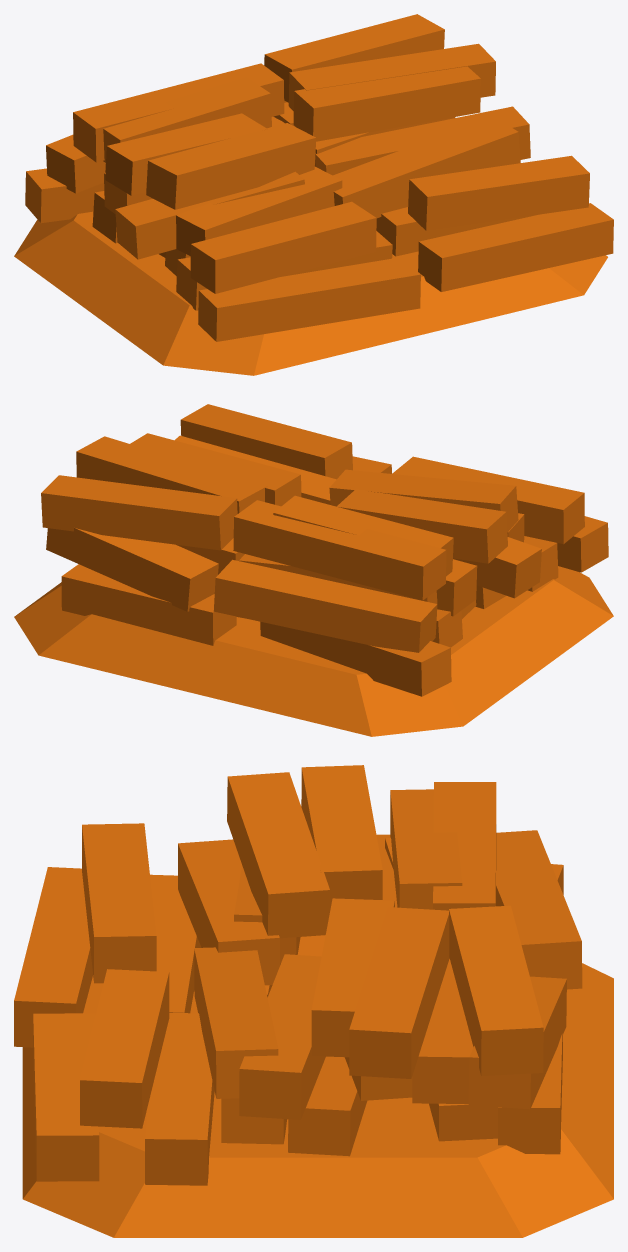
Rendered from SM_Cook_Topping_Carrot_01.fbx.
The picture shows the model from 3 angles, top to bottom: view 1: azimuth 30°, elevation 25°; view 2: azimuth 150°, elevation 25°; view 3: azimuth 270°, elevation 25°; orthographic projection. The views are drawn at different scales.
Visible parts, largest first — view 1: SM_Cook_Topping_Carrot_01; view 2: SM_Cook_Topping_Carrot_01; view 3: SM_Cook_Topping_Carrot_01.
Part boxes in pixels (x1,y1,x2,y2): SM_Cook_Topping_Carrot_01: (14, 14, 613, 375); SM_Cook_Topping_Carrot_01: (14, 404, 613, 736); SM_Cook_Topping_Carrot_01: (14, 765, 613, 1237).
Bounding box in the file's own units: 0.124 × 0.0389 × 0.1055.
Materials: 1 (1 with a texture image).
